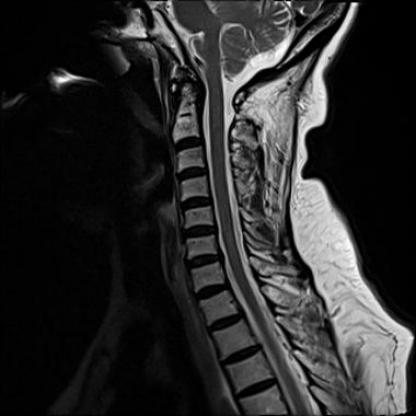Disc Bulgerotation: (185, 251, 224, 271), (180, 222, 219, 240)
